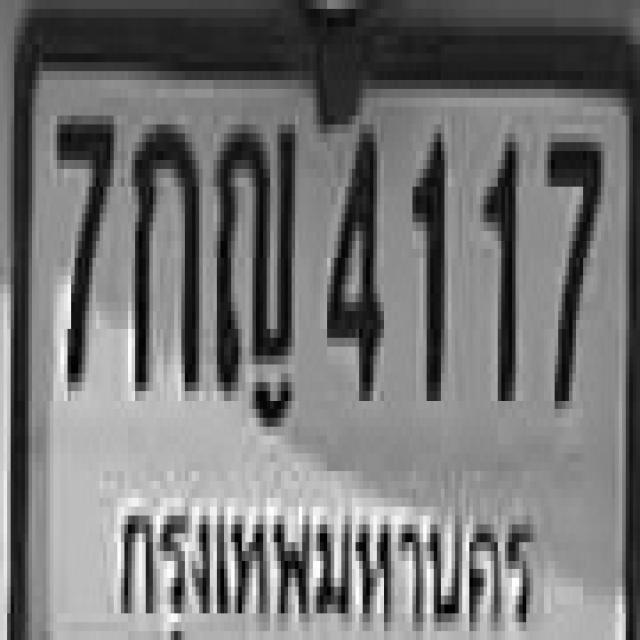1: (480, 133, 516, 391), (409, 125, 441, 391)
10GorGai: (128, 116, 196, 382)
22YorYing: (214, 116, 292, 391)
4: (324, 125, 381, 391)
7: (54, 107, 110, 382), (544, 133, 597, 400)
Bangkok: (109, 478, 546, 640)
